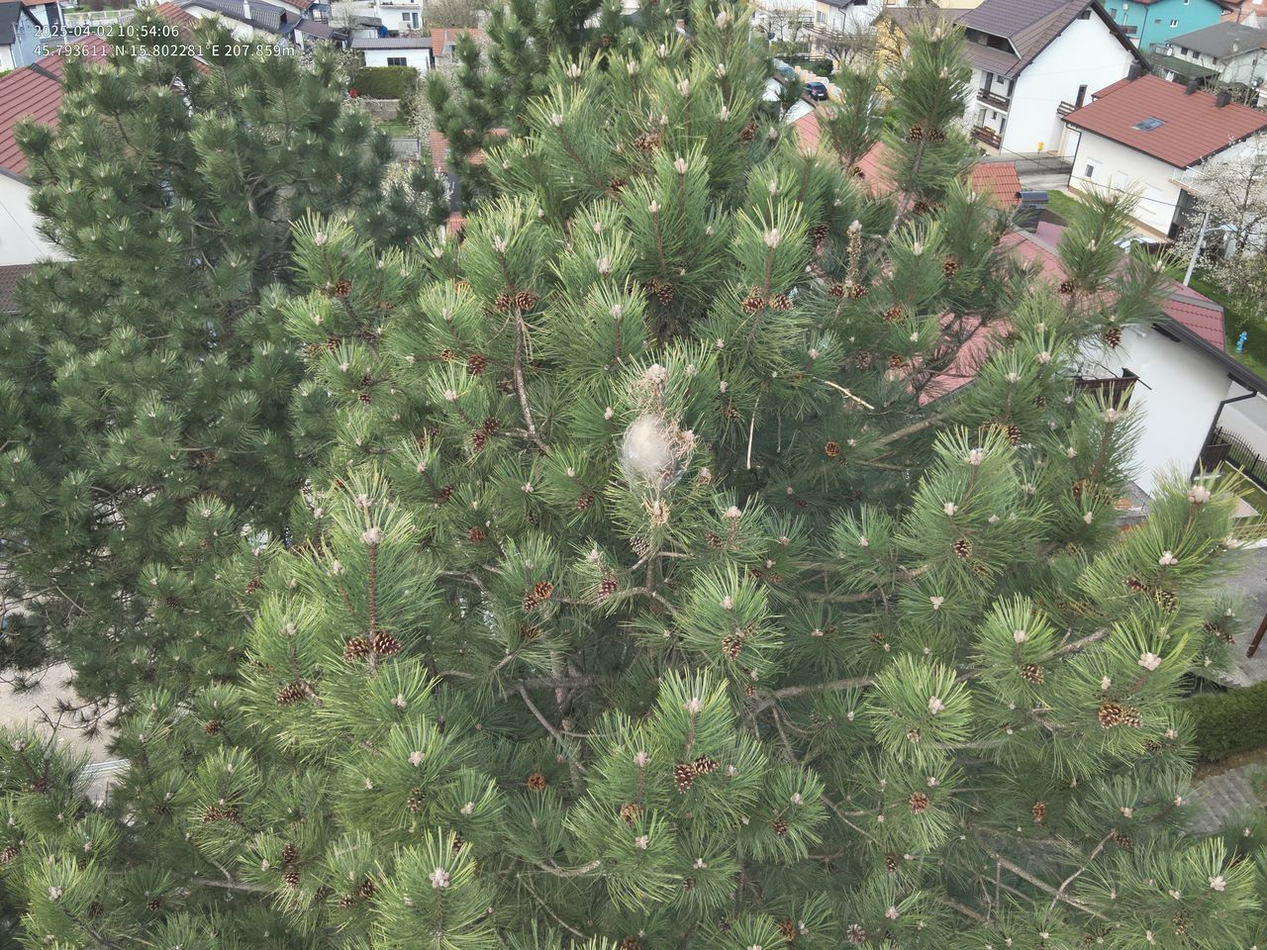thaumatopoea pityocampa jajno gnijezdo: (617, 371, 689, 496)
